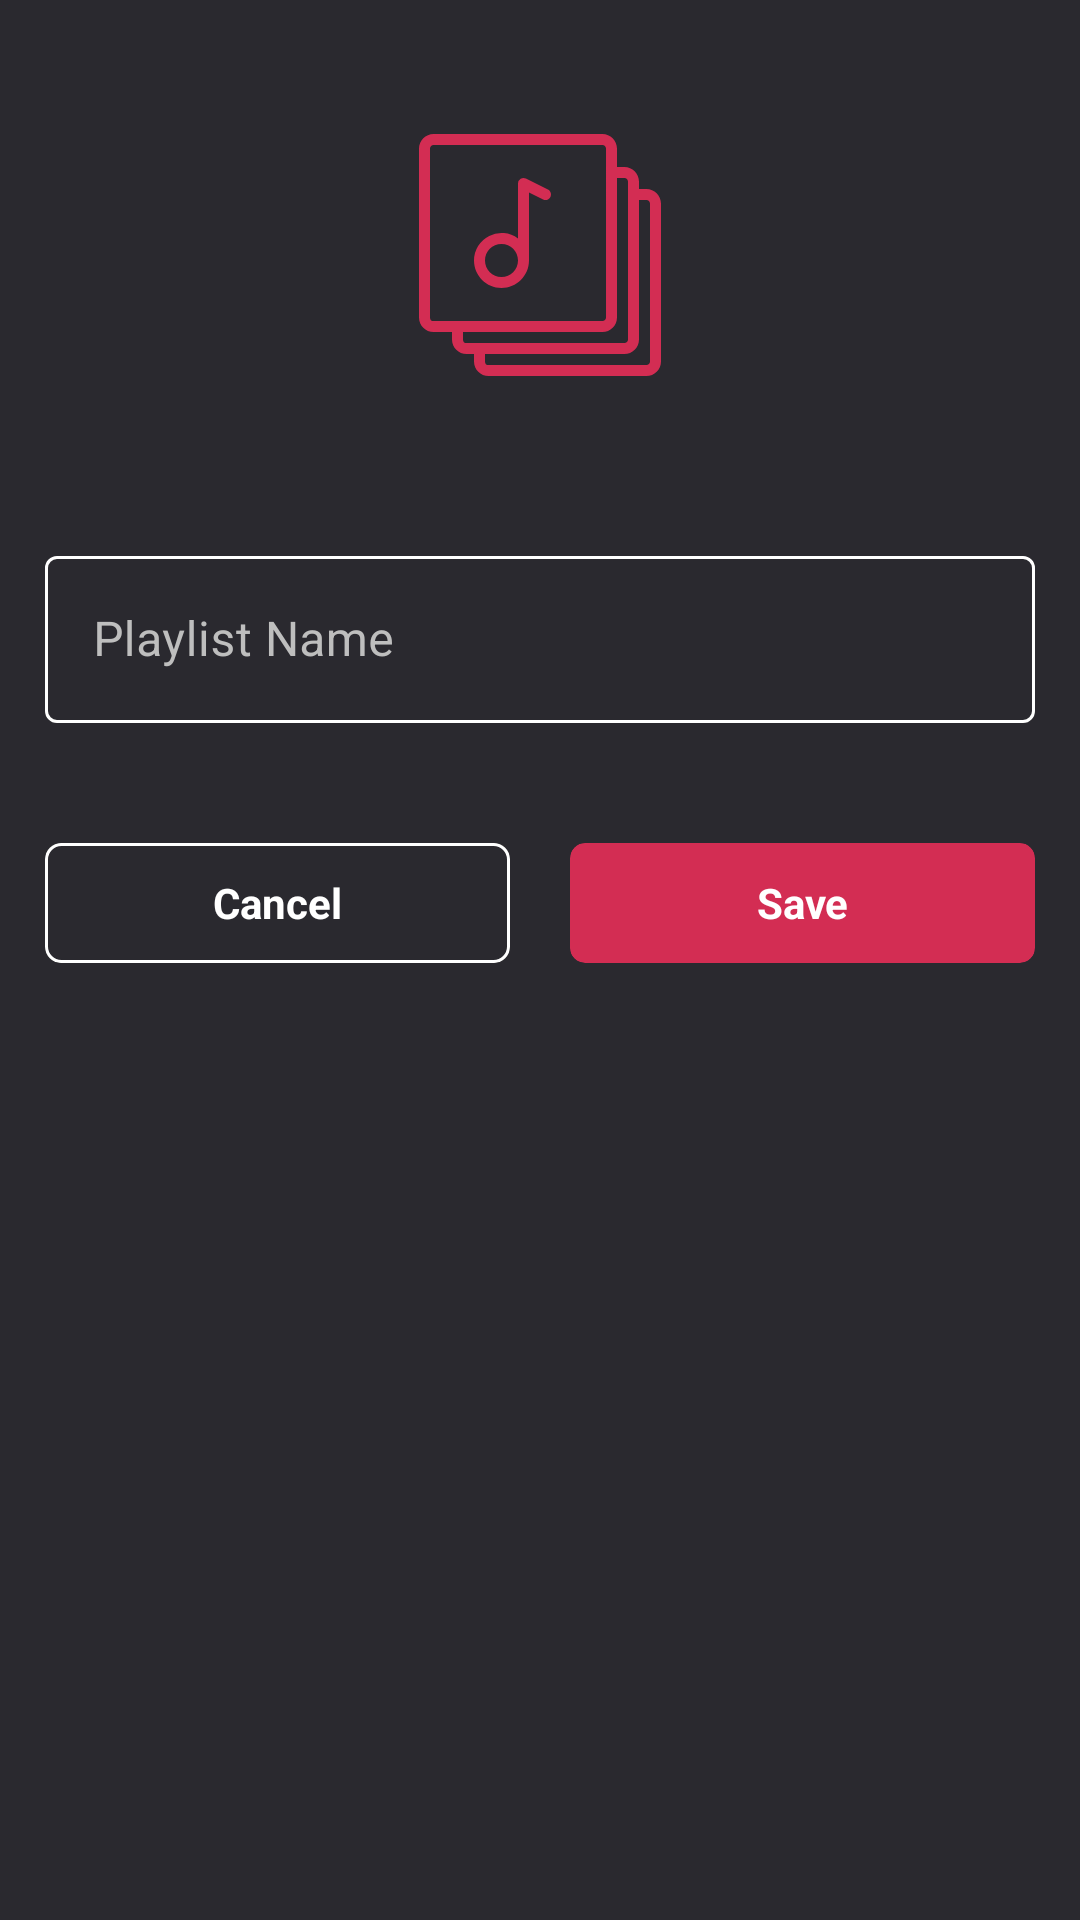

Named icons in this screenshot (1080px×1920px) and their bounding boxes, detection(x1, y1, x2, y2):
playlist: detection(419, 134, 661, 376)
